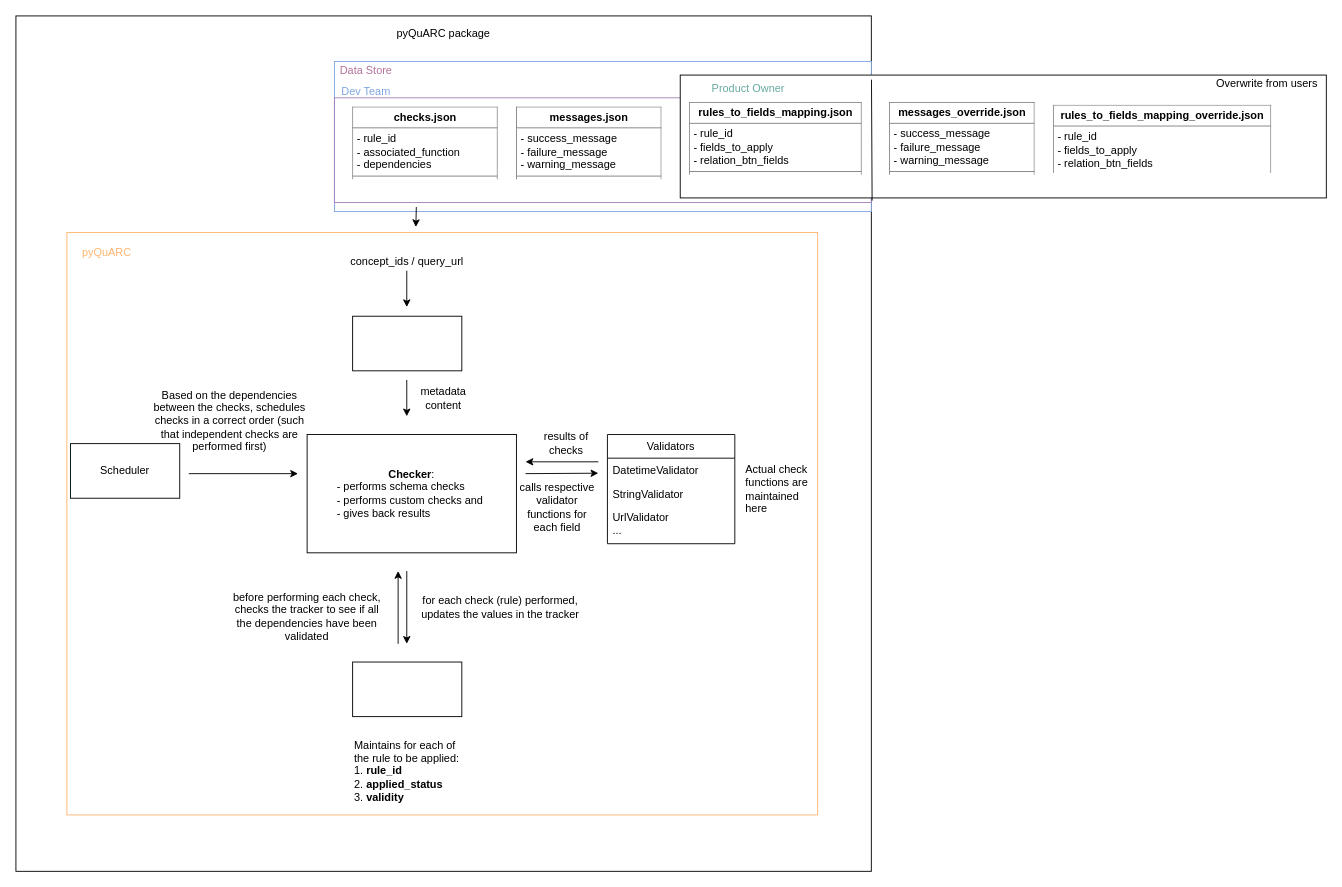
This 1342x887 diagram has some shape labels left out. The centre of each missing label's shape, as x and y in pixels:
"Downloader" goes at point (407, 343).
"Tracker" goes at point (407, 689).
